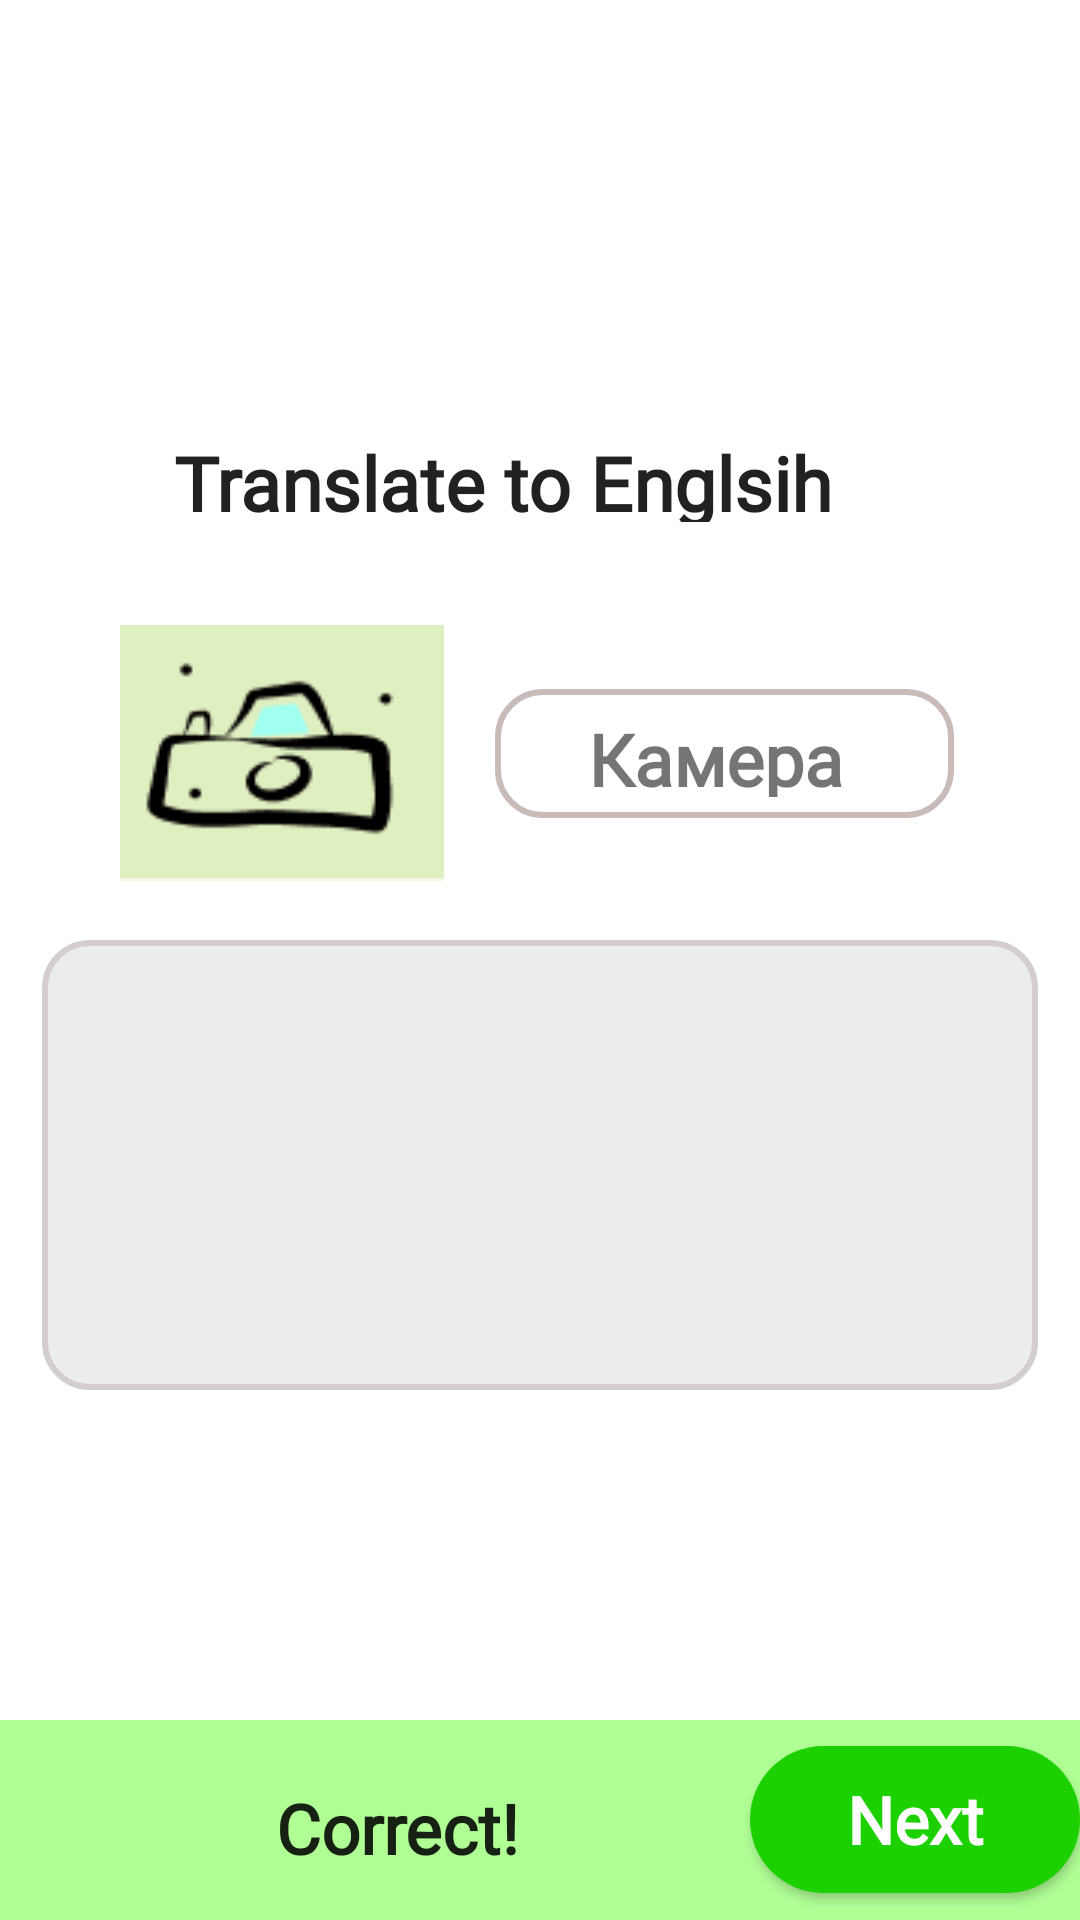

Screen size 1080×1920. Icon name, then its box in pixels as bbox=[x1, y1, x2, y2]:
camera: bbox=[120, 625, 444, 879]
